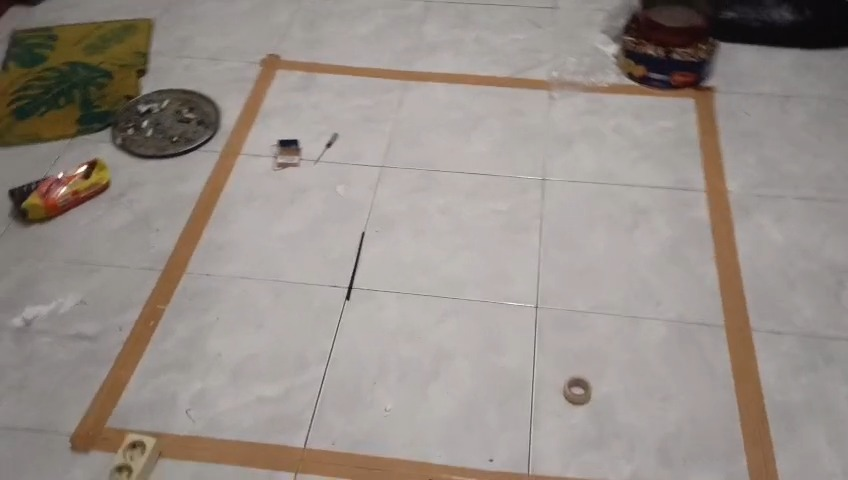floor marking: (70, 55, 546, 451), (566, 84, 776, 478), (156, 433, 558, 479)
